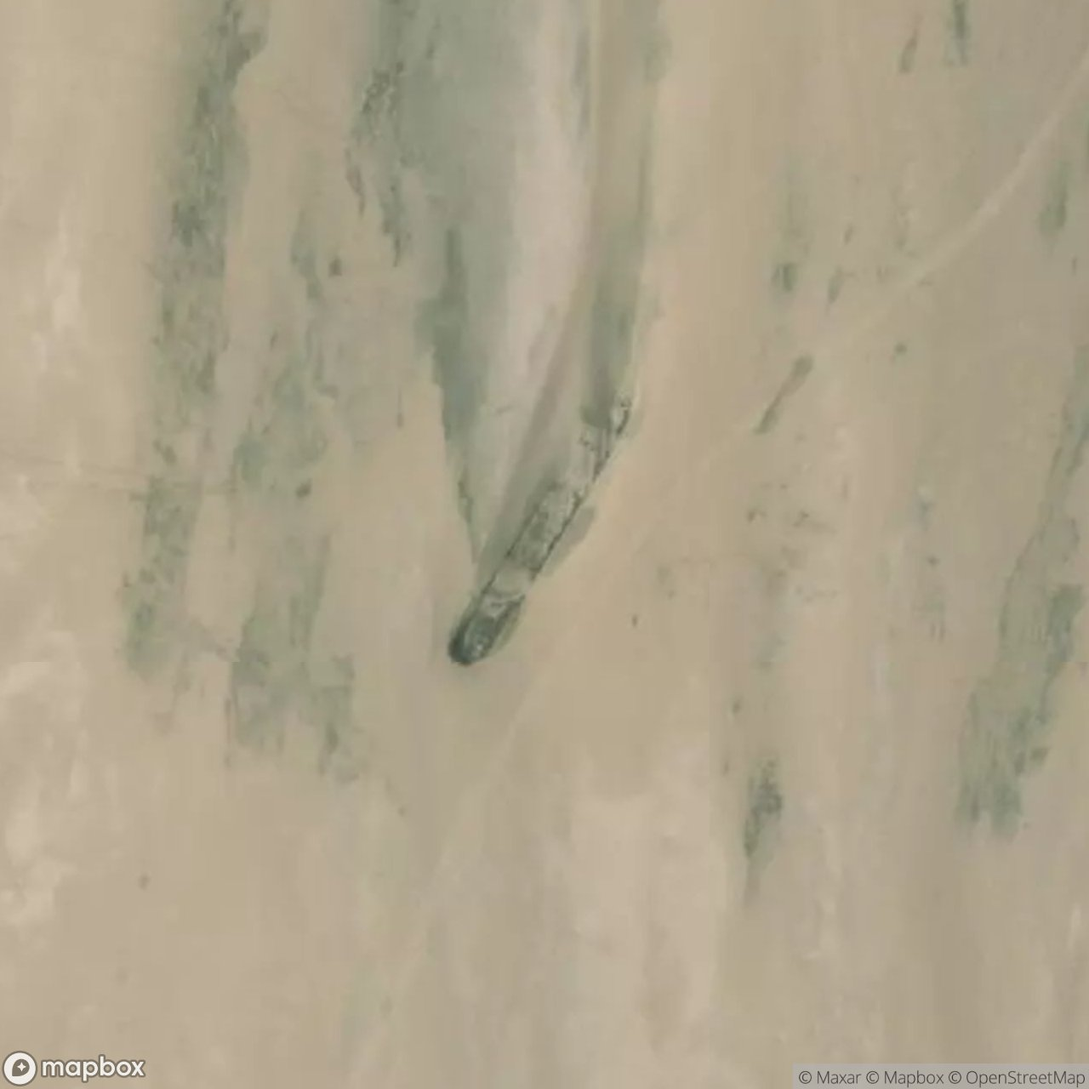Wreck: (580, 350, 712, 687)
